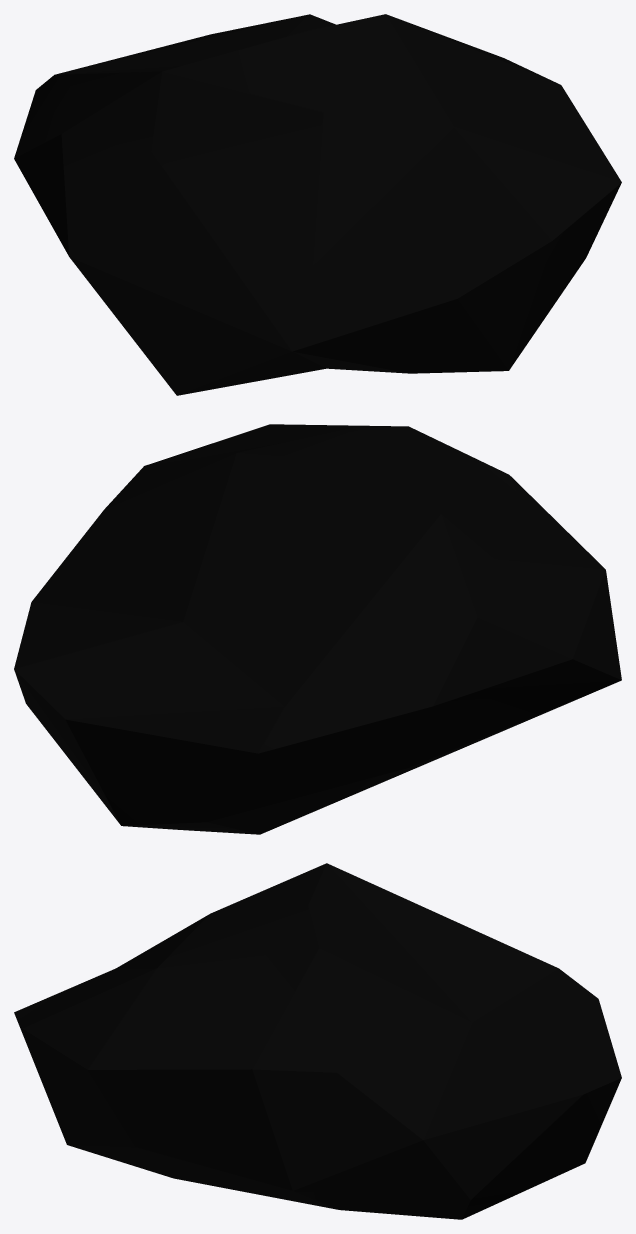
Rendered from Rock_1a.fbx.
3 renders of one model, top to bottom at view 1: azimuth 30°, elevation 25°; view 2: azimuth 150°, elevation 25°; view 3: azimuth 270°, elevation 25°, orthographic. The views are drawn at different scales.
Parts seen in each view (by area): view 1: Rock_1a; view 2: Rock_1a; view 3: Rock_1a.
Part boxes in pixels (x1=…): Rock_1a: x1=14, y1=14, x2=621, y2=395; Rock_1a: x1=14, y1=424, x2=621, y2=834; Rock_1a: x1=14, y1=863, x2=621, y2=1219.
Bounding box in the file's own units: 40.91 × 25.95 × 51.59.
Materials: 1 (1 with a texture image).
